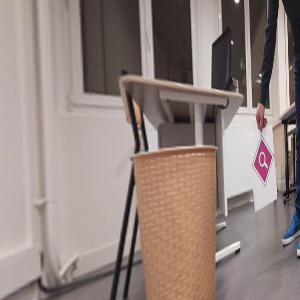search: (252, 134, 273, 187)
